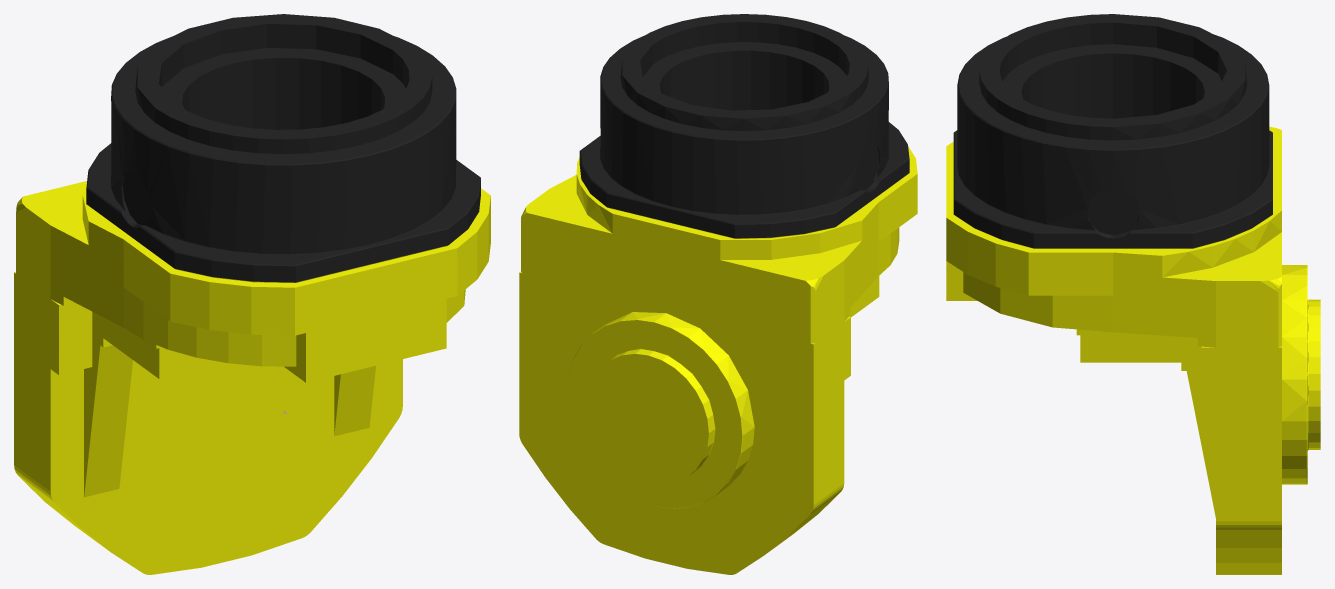
The picture shows the model from 3 angles, left to right: view 1: azimuth 30°, elevation 25°; view 2: azimuth 150°, elevation 25°; view 3: azimuth 270°, elevation 25°; orthographic projection. The views are drawn at different scales.
Parts seen in each view (by area): view 1: node; view 2: node; view 3: node.
Boxes of the visible parts, x1,y1,x2,y2 form: node: (14,14,490,574); node: (519,14,917,574); node: (946,14,1320,574).
Size of the model in its own units: 100 by 143 by 102.
